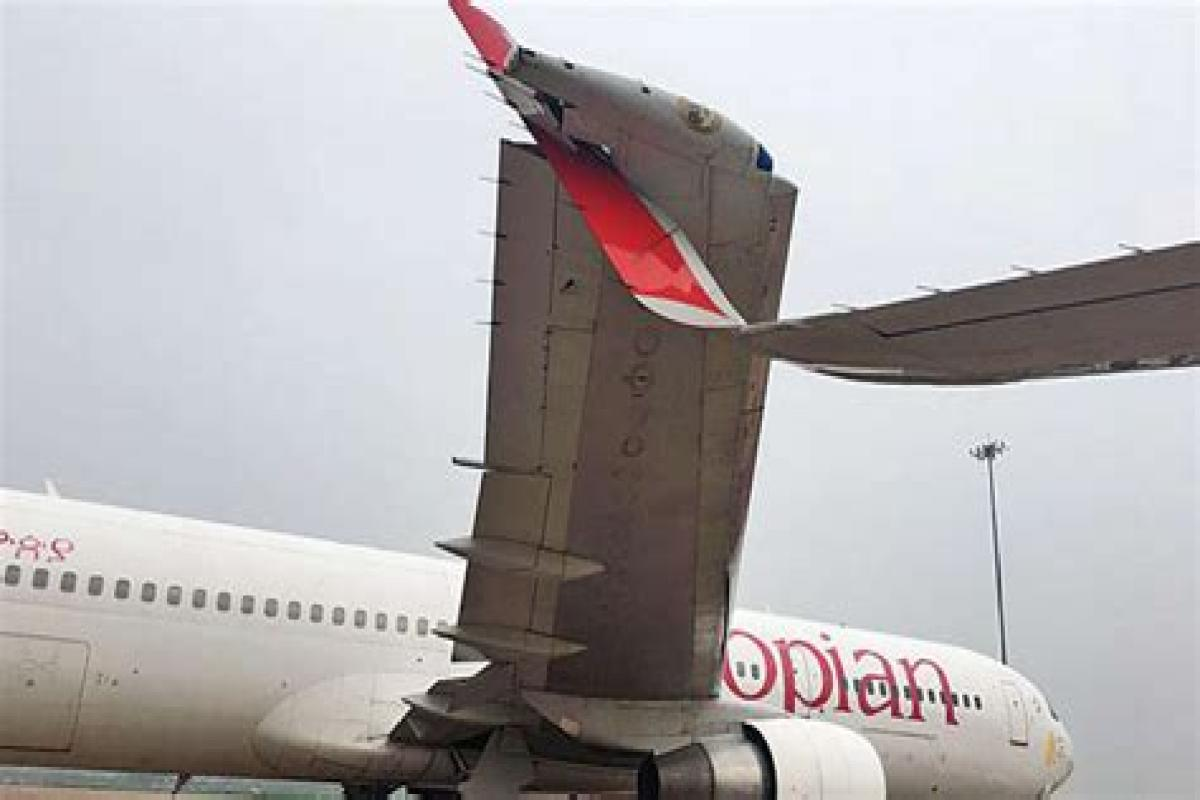Fuselage_damage: (489, 38, 620, 201)
